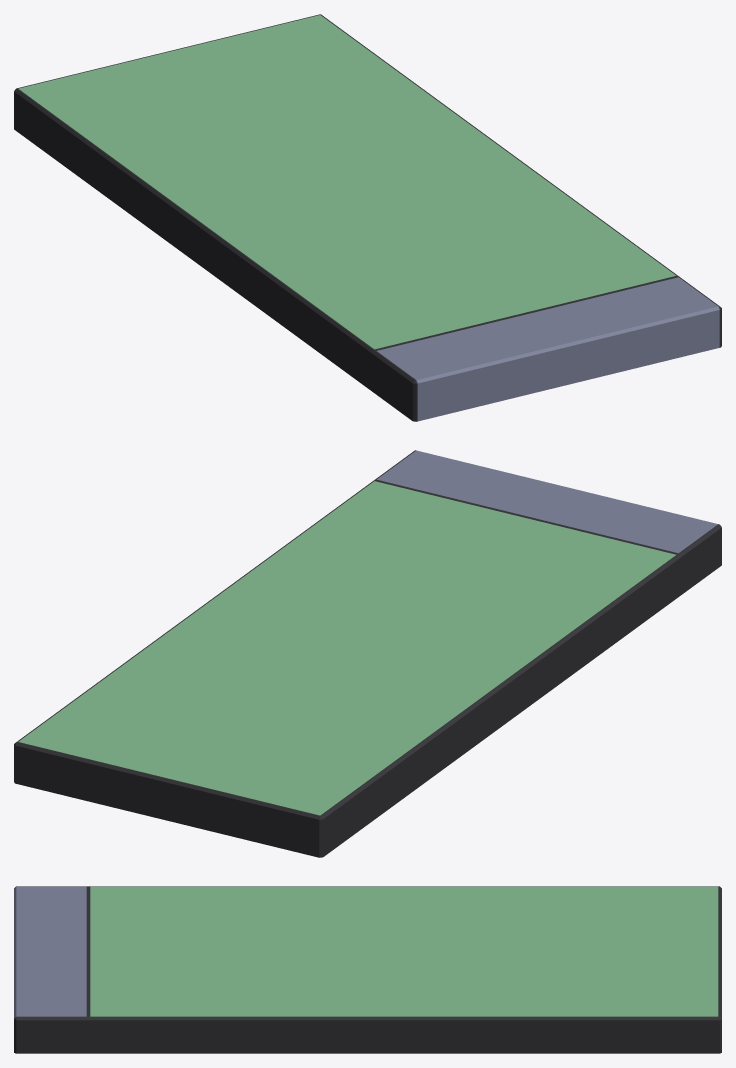
The model's file is gray_sector.glb.
The picture shows the model from 3 angles, top to bottom: view 1: azimuth 30°, elevation 25°; view 2: azimuth 150°, elevation 25°; view 3: azimuth 270°, elevation 25°; orthographic projection. The views are drawn at different scales.
Parts seen in each view (by area): view 1: gray_sector.002; view 2: gray_sector.002; view 3: gray_sector.002.
Boxes of the visible parts, x1,y1,x2,y2 form: gray_sector.002: (14, 14, 721, 421); gray_sector.002: (14, 450, 721, 857); gray_sector.002: (14, 886, 721, 1053).
Bounding box in the file's own units: 8 × 1 × 18.
1 material, 1 textured.
